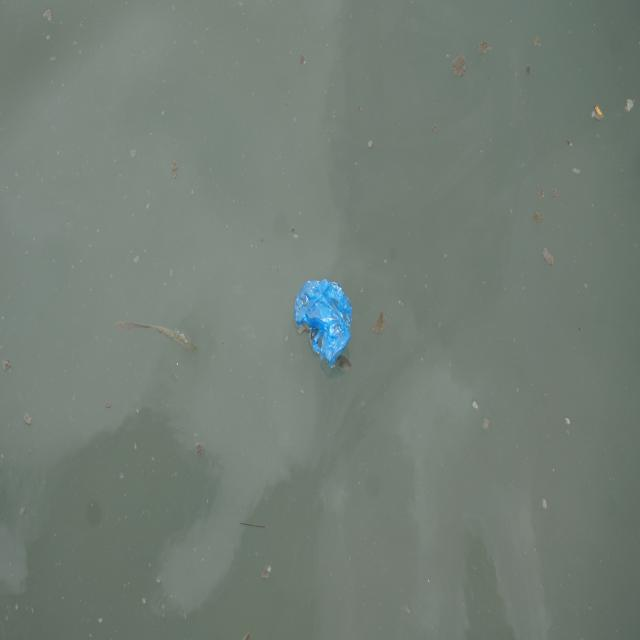Kantong Plastik: (291, 276, 355, 374)
